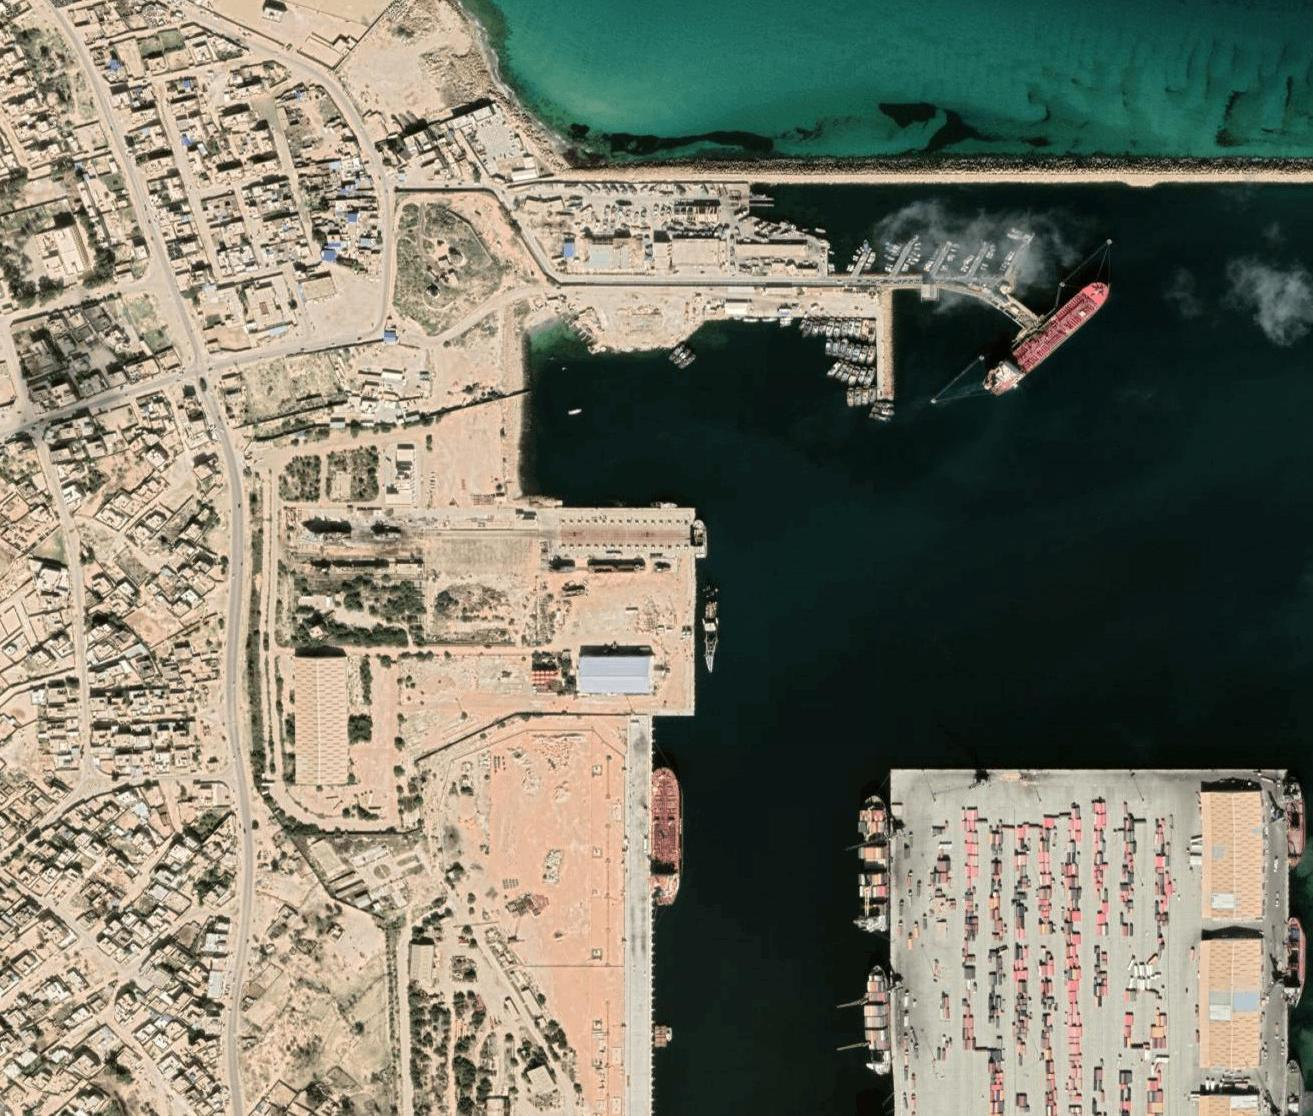harbor: (496, 113, 1307, 1114)
